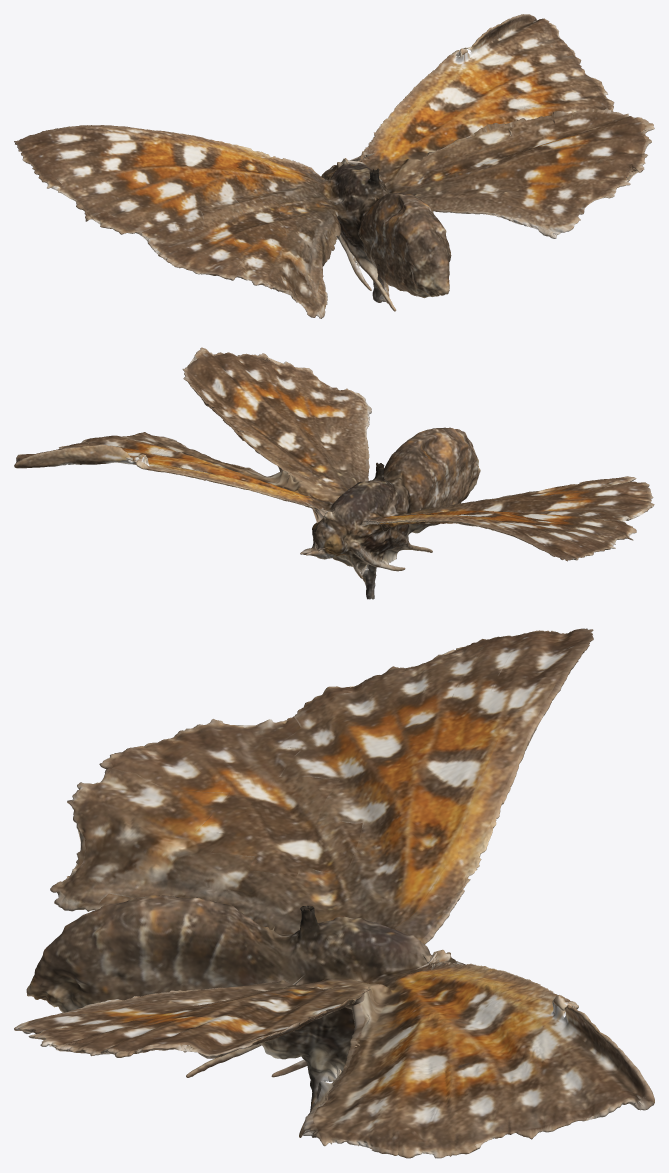
The model's file is mormon_metalmarkFinal2.glb.
3 views of the same model, one above another, from view 1: azimuth 30°, elevation 25°; view 2: azimuth 150°, elevation 25°; view 3: azimuth 270°, elevation 25° (orthographic). The views are drawn at different scales.
Visible parts, largest first — view 1: Object_3, Object_2, Object_5, Object_4, Object_6; view 2: Object_3, Object_5, Object_2, Object_4, Object_6; view 3: Object_3, Object_5, Object_2, Object_4, Object_6.
Part boxes in pixels (x1,y1,x2,y2): Object_3: (14, 14, 651, 311); Object_2: (49, 42, 654, 310); Object_5: (19, 14, 653, 318); Object_4: (18, 15, 650, 317); Object_6: (20, 14, 645, 316); Object_3: (16, 350, 631, 599); Object_5: (14, 347, 649, 599); Object_2: (38, 348, 654, 599); Object_4: (16, 352, 612, 598); Object_6: (17, 353, 653, 599); Object_3: (26, 628, 653, 1148); Object_5: (22, 630, 654, 1158); Object_2: (14, 643, 578, 1154); Object_4: (50, 629, 653, 1151); Object_6: (24, 631, 644, 1155).
Bounding box in the file's own units: 1.71 × 0.5119 × 1.03.
Materials: 1 (1 with a texture image).
